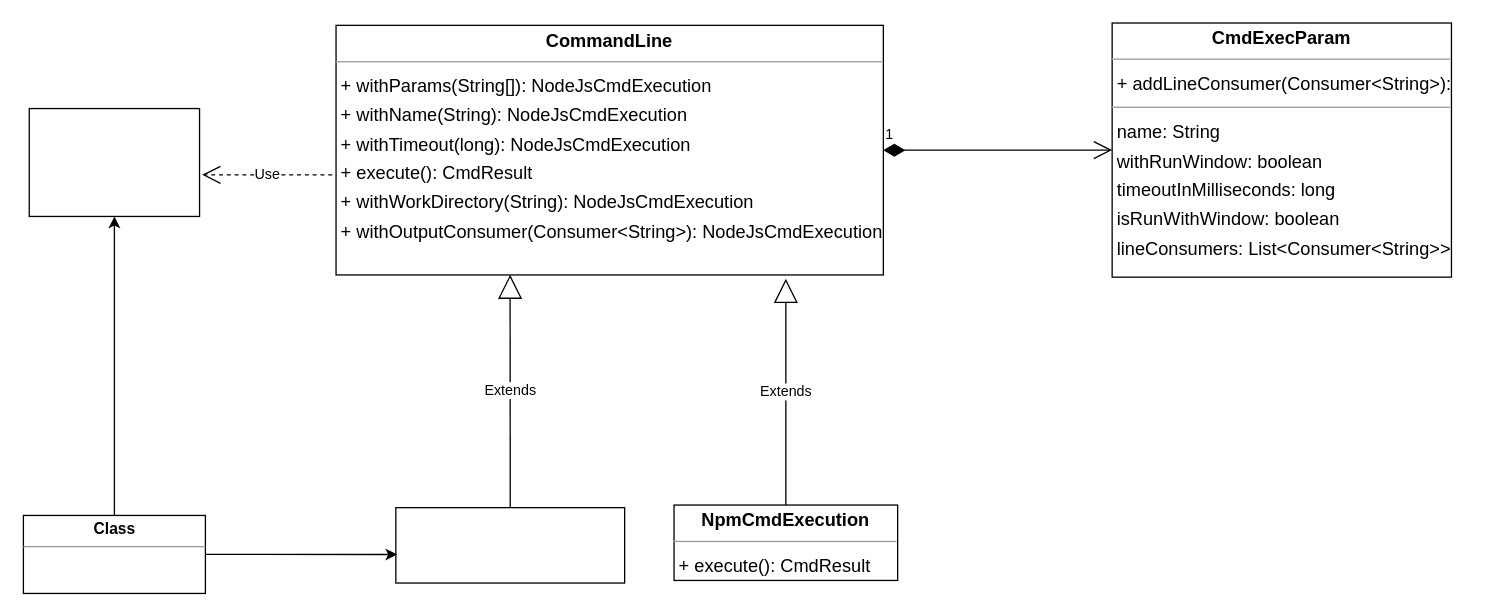
Image size: 1511x616. Some labels were removed from this diagram. Each missing label, with the centre of its shape:
"CmdResult exitCode: int errMsg: String" belongs at (x=114, y=161).
"TscCmdExecution + execute(): CmdResult" belongs at (x=510, y=544).
